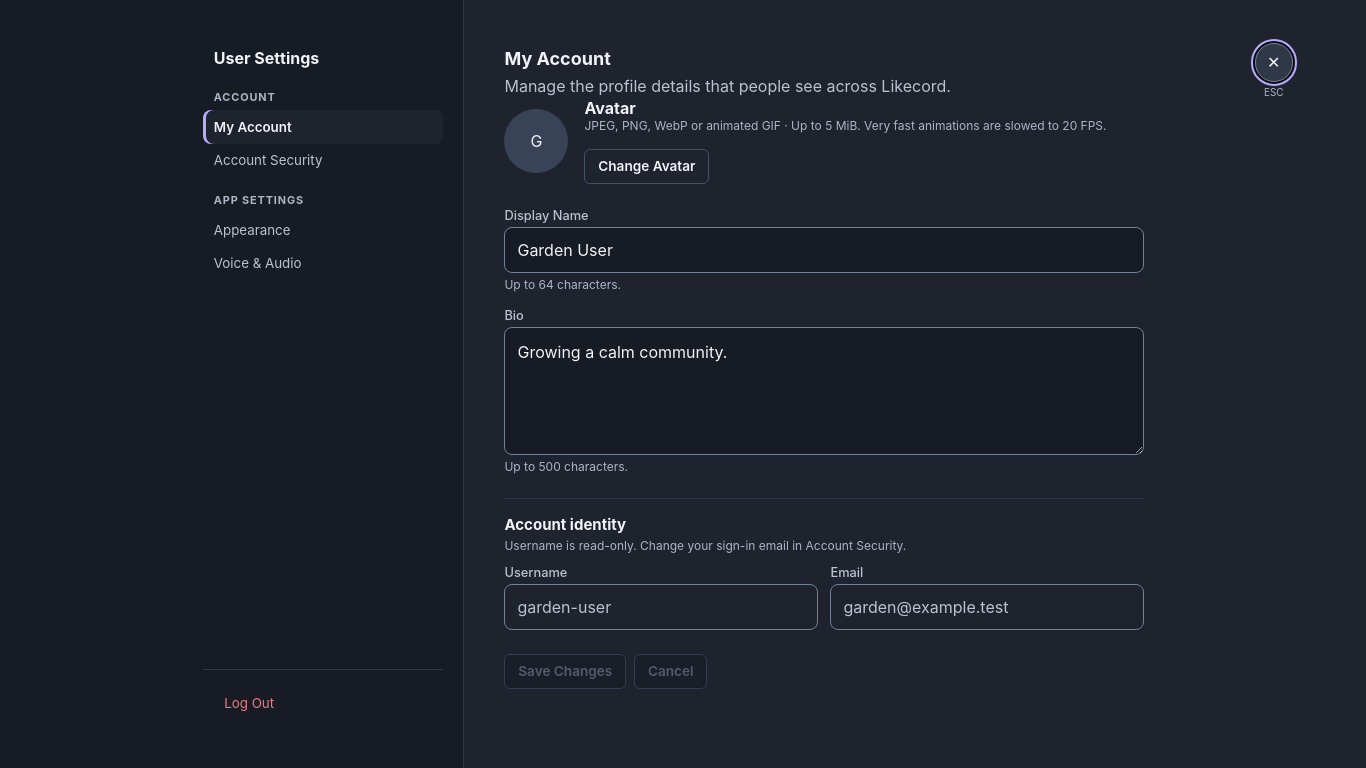
Test: User Settings workspace › keeps a failed save recoverable without diverging the authenticated identity
This screenshot has width=1366, height=768.
Replace the text in the field labelled "Display Name" with "Recovered" at (824, 250), box [504,227,1144,273]
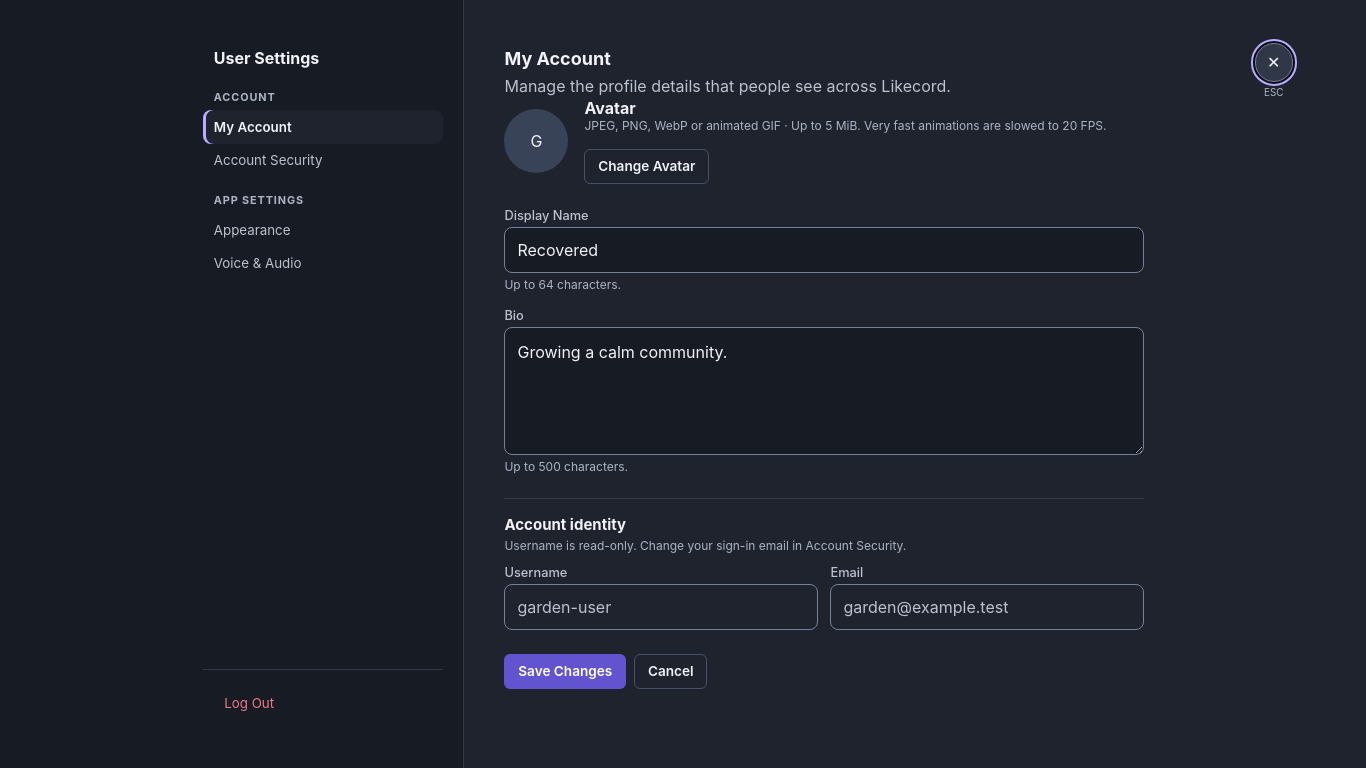
Click the button "Save Changes" at (565, 671), box [504,654,626,689]
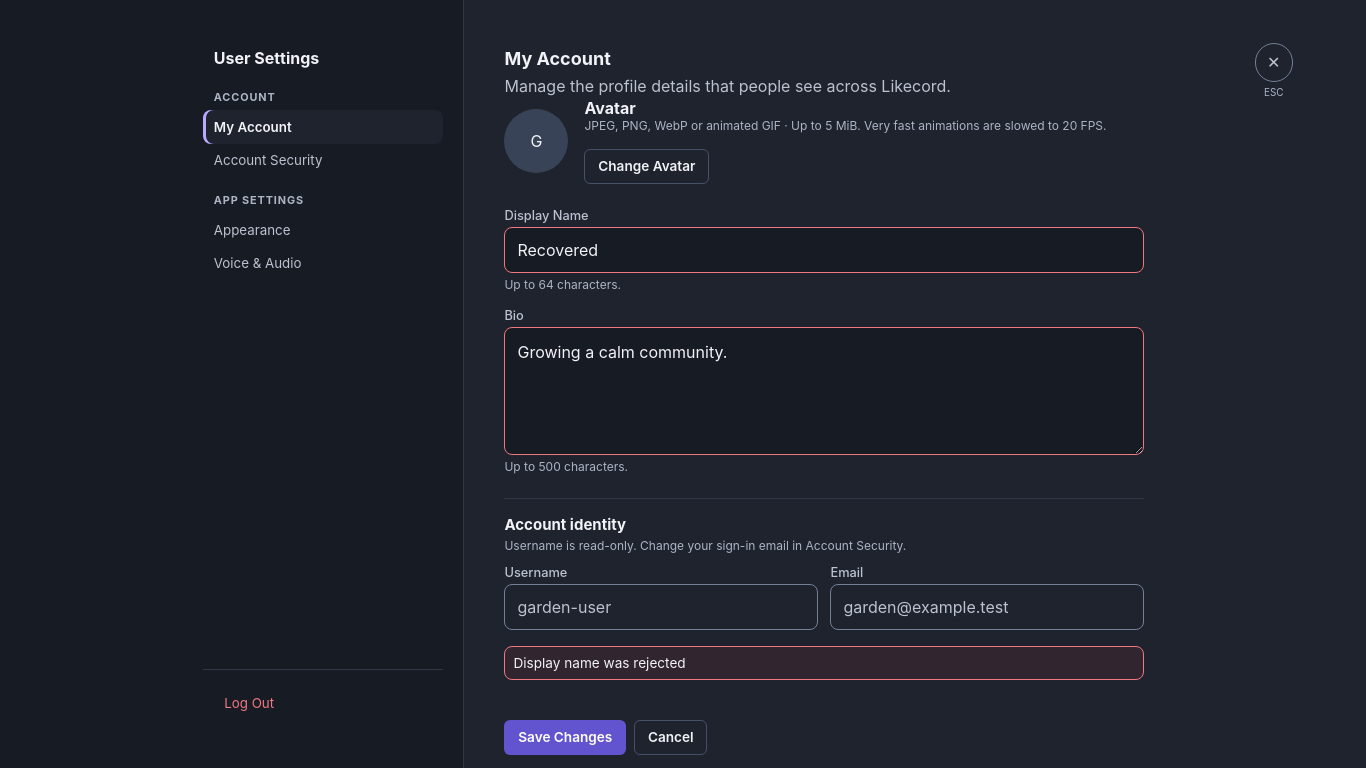
Now the button "Save Changes" is enabled
Now the message reads "Display name was rejected", box [513,655,686,671]
Click the button "Save Changes" at (565, 737), box [504,720,626,755]
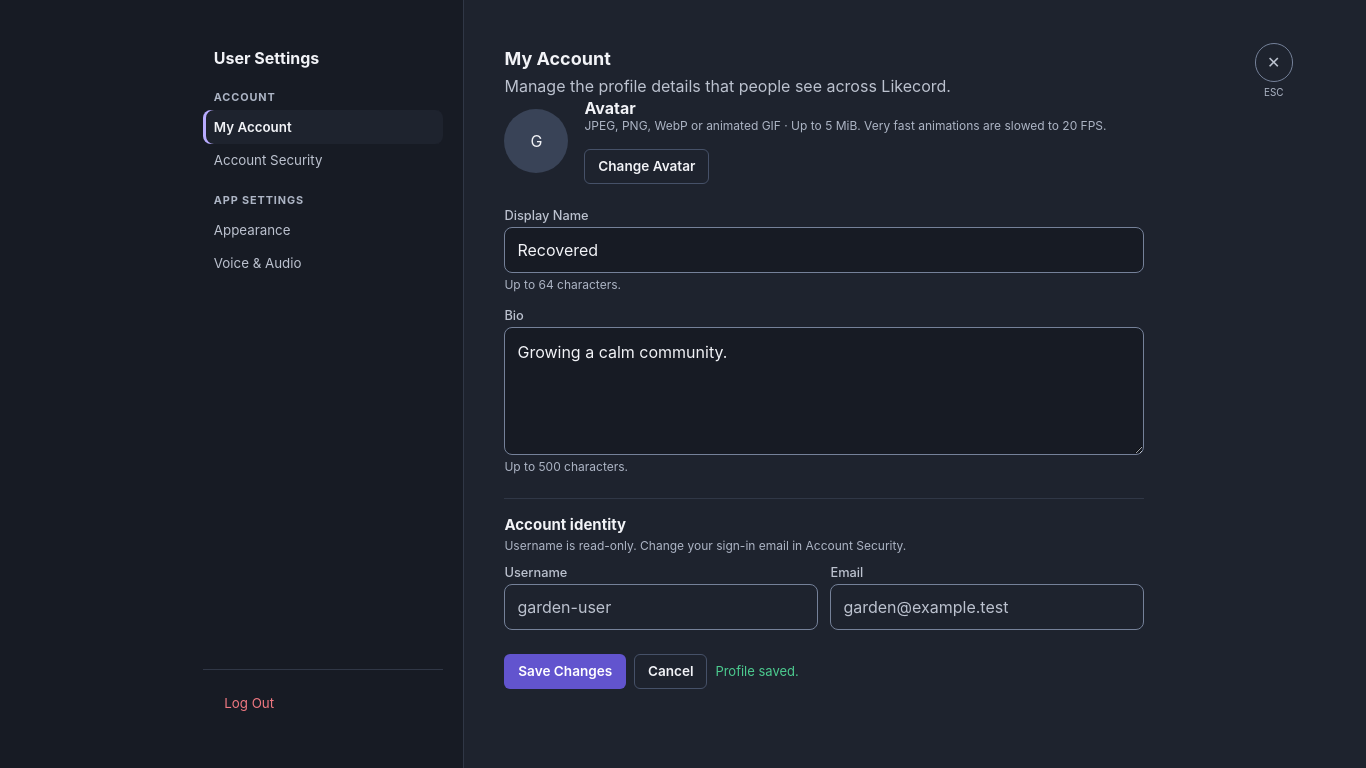
Now the text "Profile saved." is shown, box [715,663,799,679]
